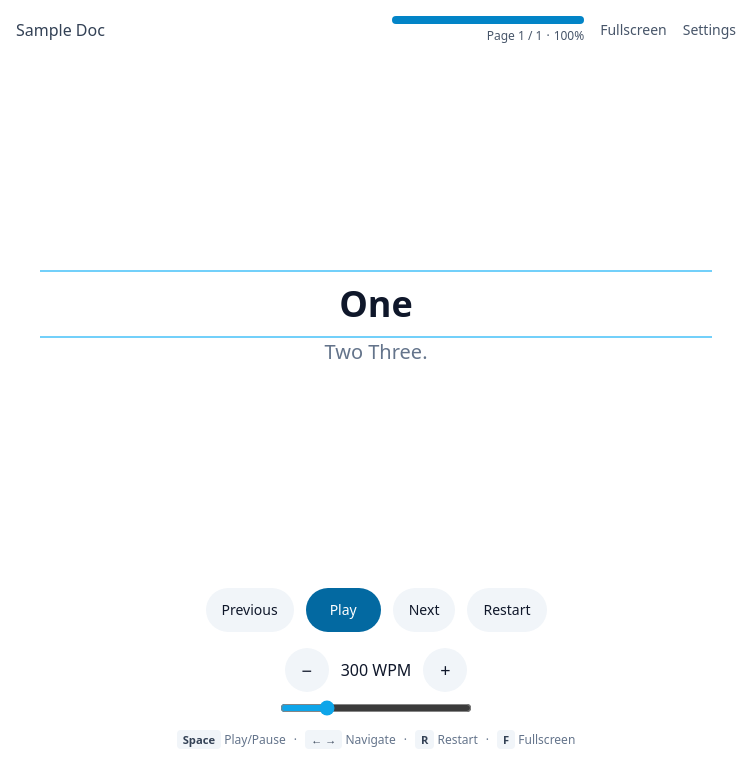
Test: ReaderPage › shows a completion state after the last token and restart returns to the first
Click the button with aria-label "Next token".
click(424, 610)  # box [393,588,455,632]
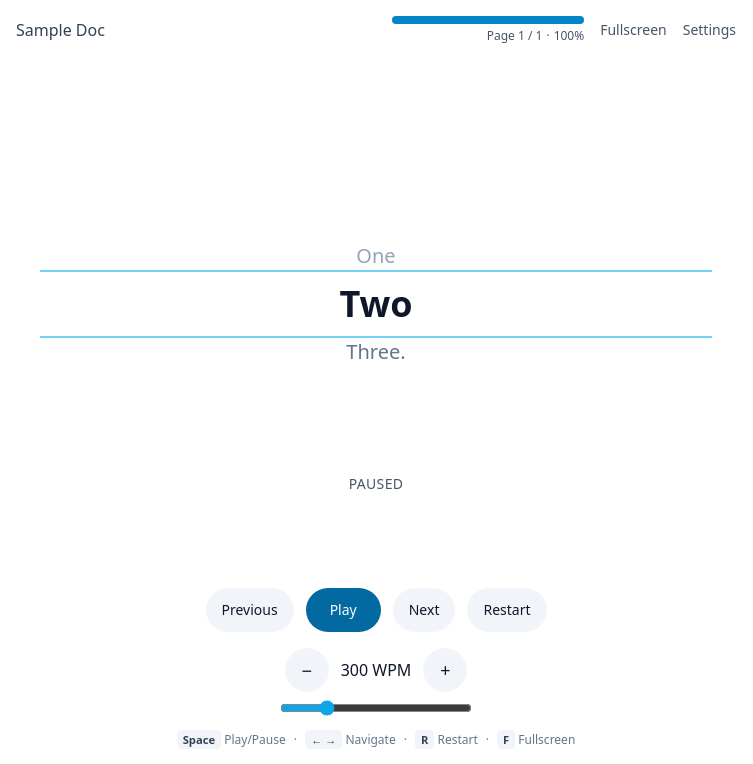
Click the button with aria-label "Next token".
click(424, 610)  # box [393,588,455,632]
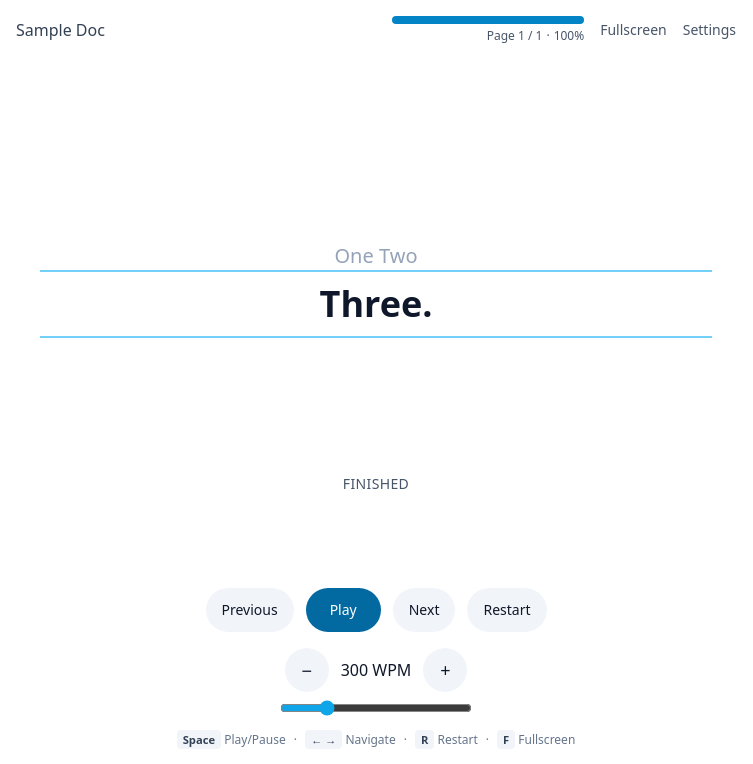
Check: the text with test id "current-token" shows "Three", box [320,279,432,328]
Check: the text "Finished" is shown, box [343,474,409,494]
Click the button with aria-label "Restart from the beginning".
click(507, 610)  # box [467,588,546,632]
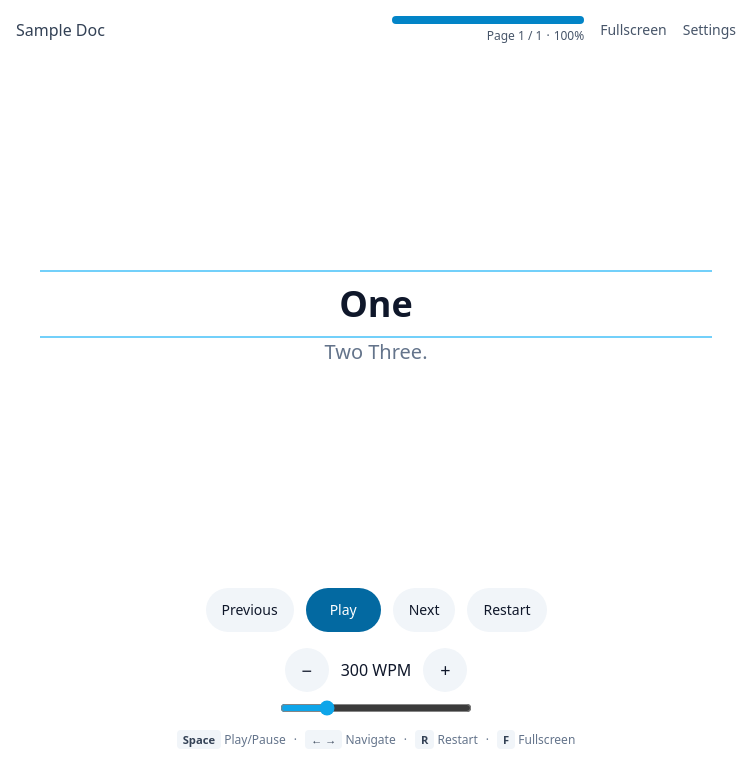
Check: the text "Page 1 / 1" is shown, box [487,28,542,44]
Check: the text with test id "current-token" reads "One", box [339,279,413,328]
